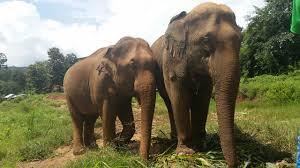elephant: (63, 2, 240, 167)
